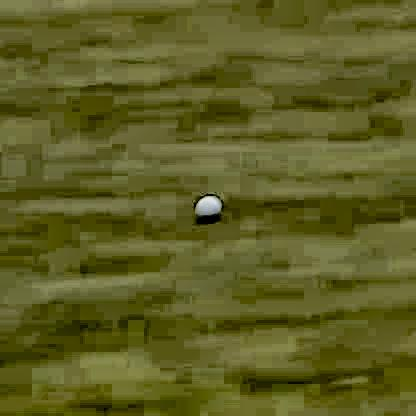golfball: (193, 190, 221, 220)
